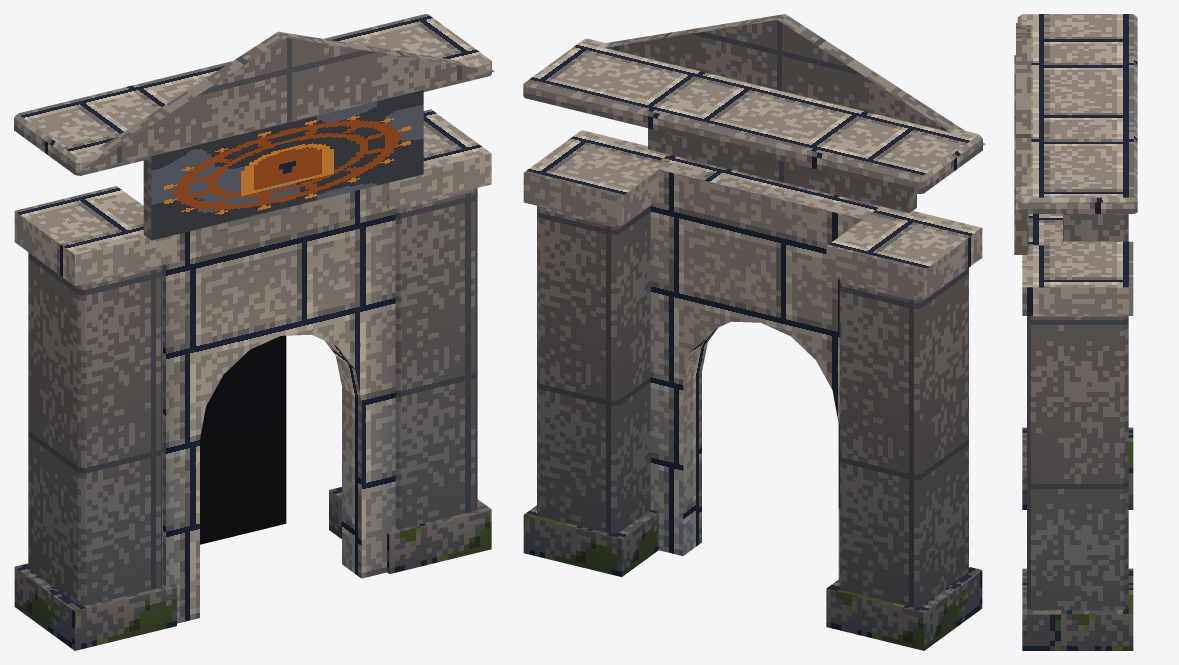
Rendered from tmpl.boss_door__open.glb.
3 views of the same model, side by side, from view 1: azimuth 30°, elevation 25°; view 2: azimuth 150°, elevation 25°; view 3: azimuth 270°, elevation 25° (orthographic). The views are drawn at different scales.
Parts seen in each view (by area): view 1: kit_surround, kit_lintel, kit_card_dark; view 2: kit_surround, kit_lintel; view 3: kit_surround, kit_lintel.
Part boxes in pixels (left/top/right/bottom): kit_surround: left=14, top=109, right=491, bottom=650; kit_lintel: left=14, top=14, right=494, bottom=240; kit_card_dark: left=200, top=335, right=286, bottom=544; kit_surround: left=523, top=130, right=982, bottom=650; kit_lintel: left=523, top=14, right=985, bottom=213; kit_surround: left=1022, top=214, right=1133, bottom=650; kit_lintel: left=1014, top=14, right=1137, bottom=254.
Size of the model in its own units: 4.9 by 6.35 by 1.67.
5 materials, 5 textured.
